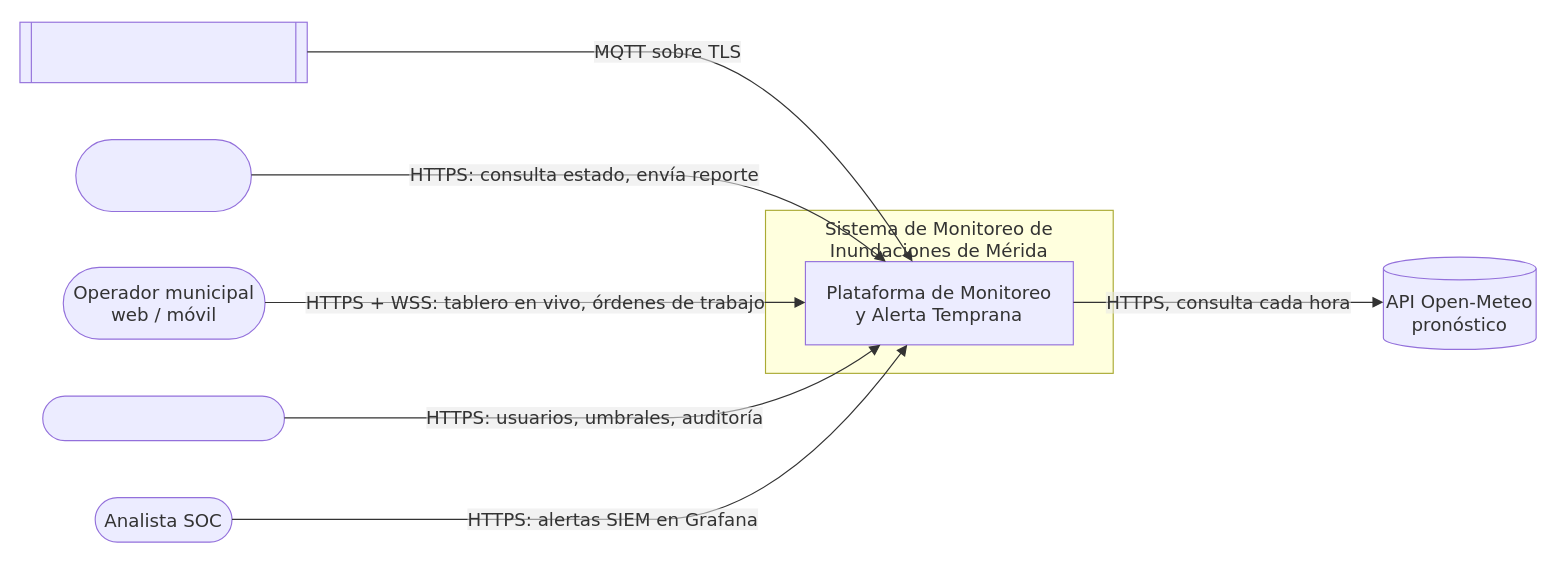
This 1556x562 diagram has some shape labels left out. Here are the shapes that lost their labels. From the top down, the centre of each, then its label:
At (163,52): "Sensores de campo simulados: profundidad + lluvia".
At (163,175): "Ciudadano navegador móvil".
At (163,418): "Supervisor / Administrador".
